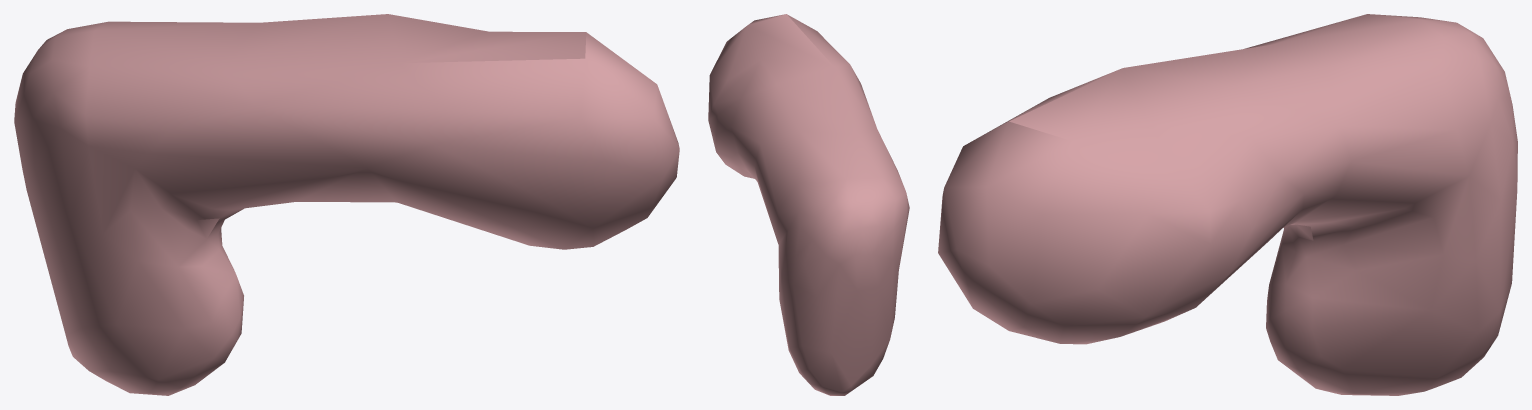
File: fma14964_fj2574.glb
3 views of the same model, side by side, from view 1: azimuth 30°, elevation 25°; view 2: azimuth 150°, elevation 25°; view 3: azimuth 270°, elevation 25° (orthographic). The views are drawn at different scales.
Visible parts, largest first — view 1: FMA14964_FJ2574; view 2: FMA14964_FJ2574; view 3: FMA14964_FJ2574.
Part boxes in pixels (x1=…): FMA14964_FJ2574: x1=14, y1=14, x2=679, y2=395; FMA14964_FJ2574: x1=708, y1=14, x2=909, y2=395; FMA14964_FJ2574: x1=938, y1=14, x2=1517, y2=395.
Bounding box in the file's own units: 0.047 × 0.0396 × 0.0508.
